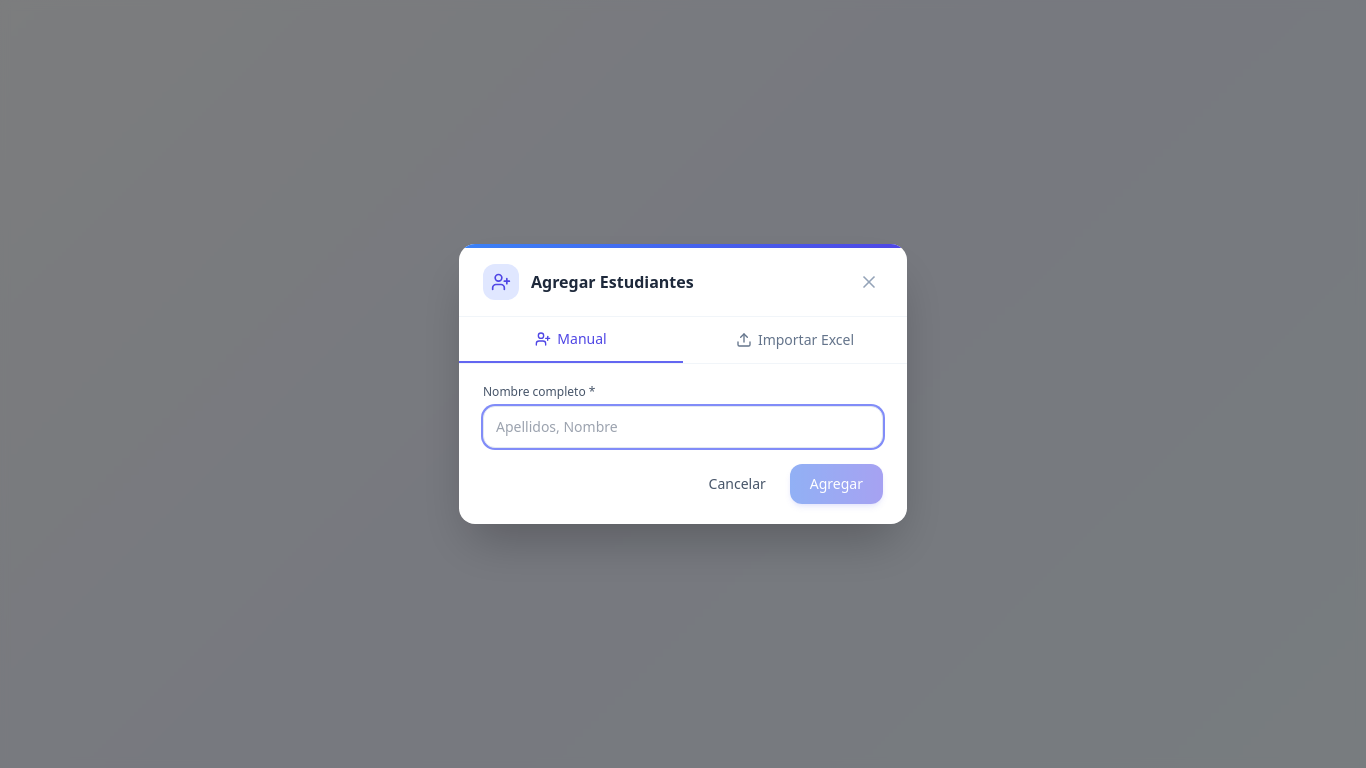
Test: ModalEstudiante › cambia a modo Excel al hacer clic en tab
Step 1. Click the button "Importar Excel" → [795, 340], box x1=683 y1=317 x2=907 y2=363
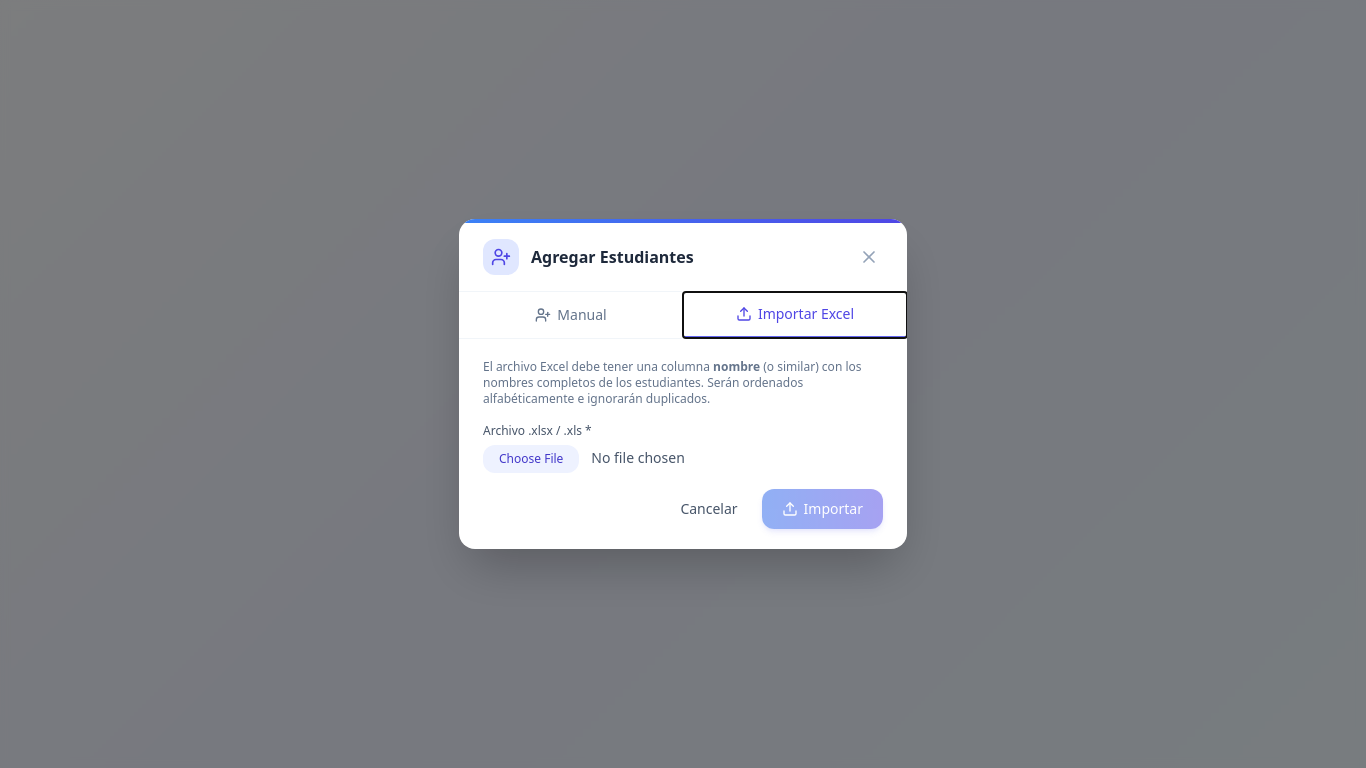
Now the button "Importar" is shown, box x1=762 y1=489 x2=883 y2=529
